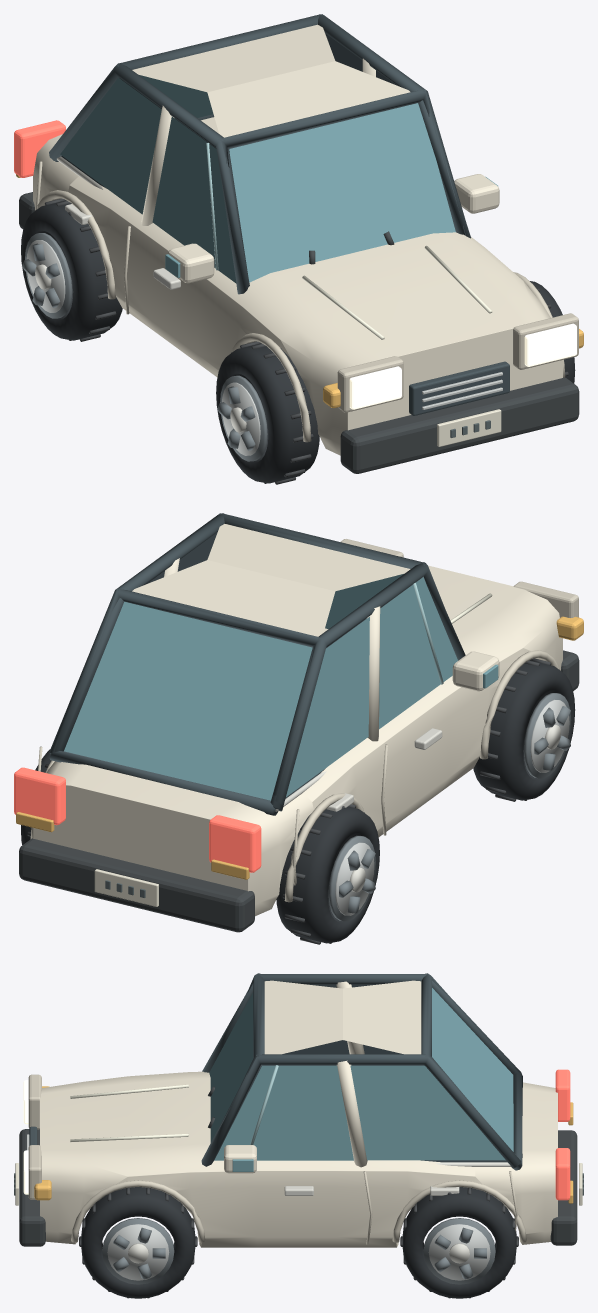
Rendered from car_06.fbx.
3 renders of one model, top to bottom at view 1: azimuth 30°, elevation 25°; view 2: azimuth 150°, elevation 25°; view 3: azimuth 270°, elevation 25°, orthographic. The views are drawn at different scales.
Parts seen in each view (by area): view 1: Body_SculptedShell, FrontWindscreen, Roof_CrownedPanel, FrontBumper, SideWindow_L_1, SideWindow_L_0, Tyre_FL, Tyre_RL, WindowOutline_L, WindowOutline_R, FrontWindscreenBorder, FrontGrille (+22 smaller); view 2: Body_SculptedShell, RearWindow, Roof_CrownedPanel, RearBumper, SideWindow_L_1, SideWindow_L_0, Tyre_RL, Tyre_FL, RearWindowBorder, WindowOutline_L, WindowOutline_R, TailLamp_L (+19 smaller); view 3: Body_SculptedShell, SideWindow_R_1, Roof_CrownedPanel, SideWindow_R_0, Tyre_FR, Tyre_RR, RearWindow, WindowOutline_R, FrontWindscreen, WindowOutline_L, RearWindowBorder, WheelDish_FR (+20 smaller).
Part boxes in pixels (x1,y1,x2,y2): Body_SculptedShell: (33, 117, 562, 455); FrontWindscreen: (229, 103, 455, 282); Roof_CrownedPanel: (132, 24, 410, 137); FrontBumper: (340, 377, 579, 473); SideWindow_L_1: (60, 77, 161, 214); SideWindow_L_0: (152, 116, 236, 283); Tyre_FL: (216, 343, 319, 483); Tyre_RL: (21, 200, 122, 340); WindowOutline_L: (51, 63, 249, 291); WindowOutline_R: (317, 14, 470, 238); FrontWindscreenBorder: (218, 89, 465, 294); FrontGrille: (409, 361, 509, 415); Body_SculptedShell: (33, 565, 562, 916); RearWindow: (64, 601, 312, 800); Roof_CrownedPanel: (132, 524, 410, 636); RearBumper: (19, 838, 254, 932); SideWindow_L_1: (286, 616, 369, 796); SideWindow_L_0: (379, 577, 457, 729); Tyre_RL: (276, 806, 379, 943); Tyre_FL: (473, 660, 575, 800); RearWindowBorder: (49, 588, 324, 815); WindowOutline_L: (272, 562, 465, 811); WindowOutline_R: (49, 513, 224, 753); TailLamp_L: (209, 815, 261, 872); Body_SculptedShell: (40, 1071, 557, 1247); SideWindow_R_1: (350, 1065, 505, 1160); Roof_CrownedPanel: (264, 980, 421, 1054); SideWindow_R_0: (214, 1065, 353, 1160); Tyre_FR: (81, 1187, 195, 1298); Tyre_RR: (402, 1187, 516, 1298); RearWindow: (432, 988, 513, 1151); WindowOutline_R: (201, 1054, 521, 1168); FrontWindscreen: (209, 992, 253, 1142); WindowOutline_L: (202, 974, 515, 1074); RearWindowBorder: (421, 973, 522, 1170); WheelDish_FR: (107, 1224, 169, 1280).
Size of the model in its own units: 235 by 192 by 434.
